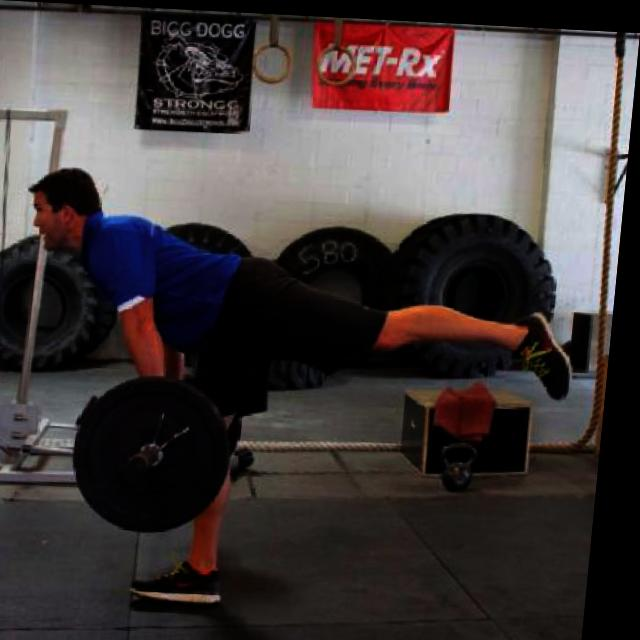barbell: (73, 370, 247, 540)
